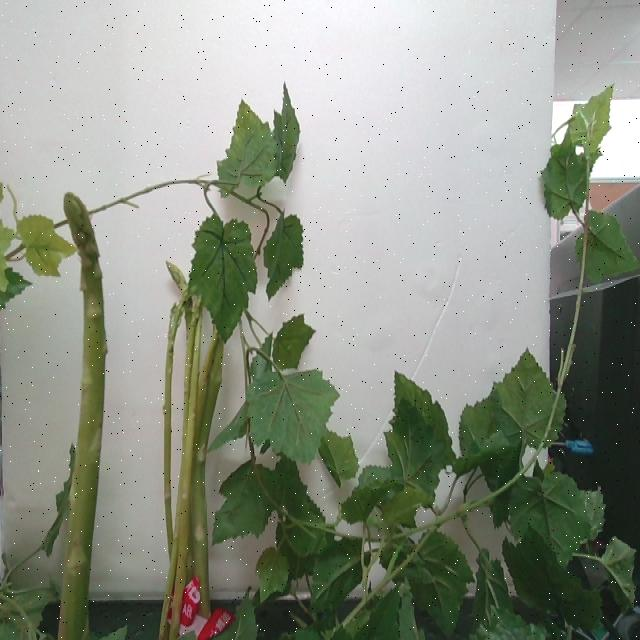aspargus: (55, 194, 108, 640)
